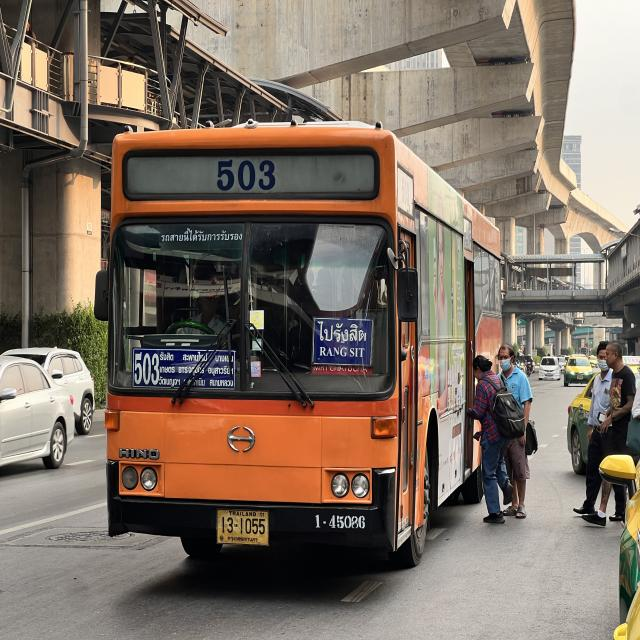BMTA-bus: (95, 107, 508, 582)
Bus-Line-Number: (201, 154, 293, 194)
Destination-Sign-Normal: (313, 318, 373, 370)
